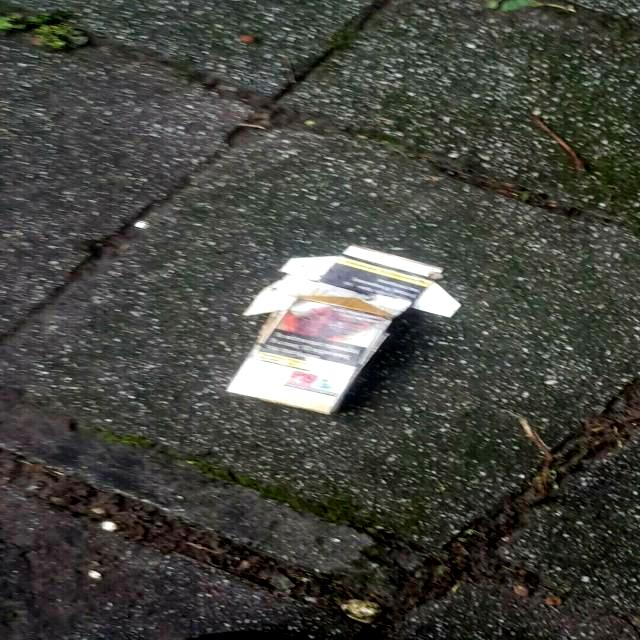Paper: (218, 242, 462, 418)
